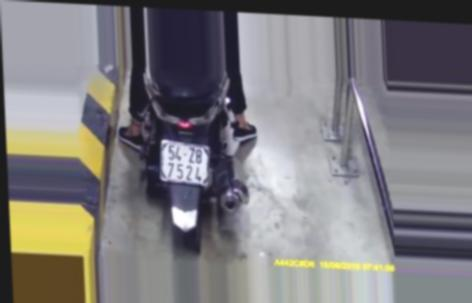License_Plate: (155, 137, 218, 190)
